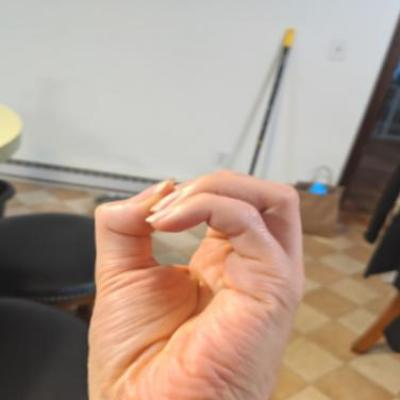hand: (62, 160, 319, 399)
